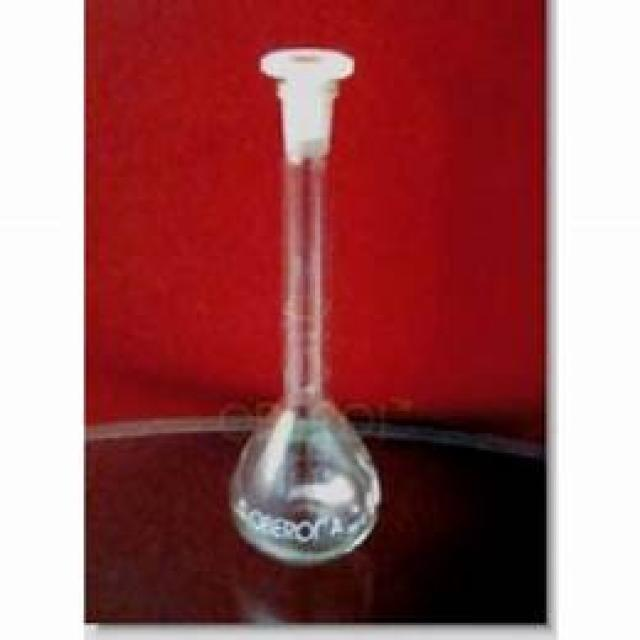Volumetric flask: (226, 25, 393, 557)
